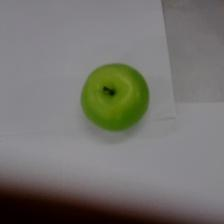green: (80, 61, 150, 133)
